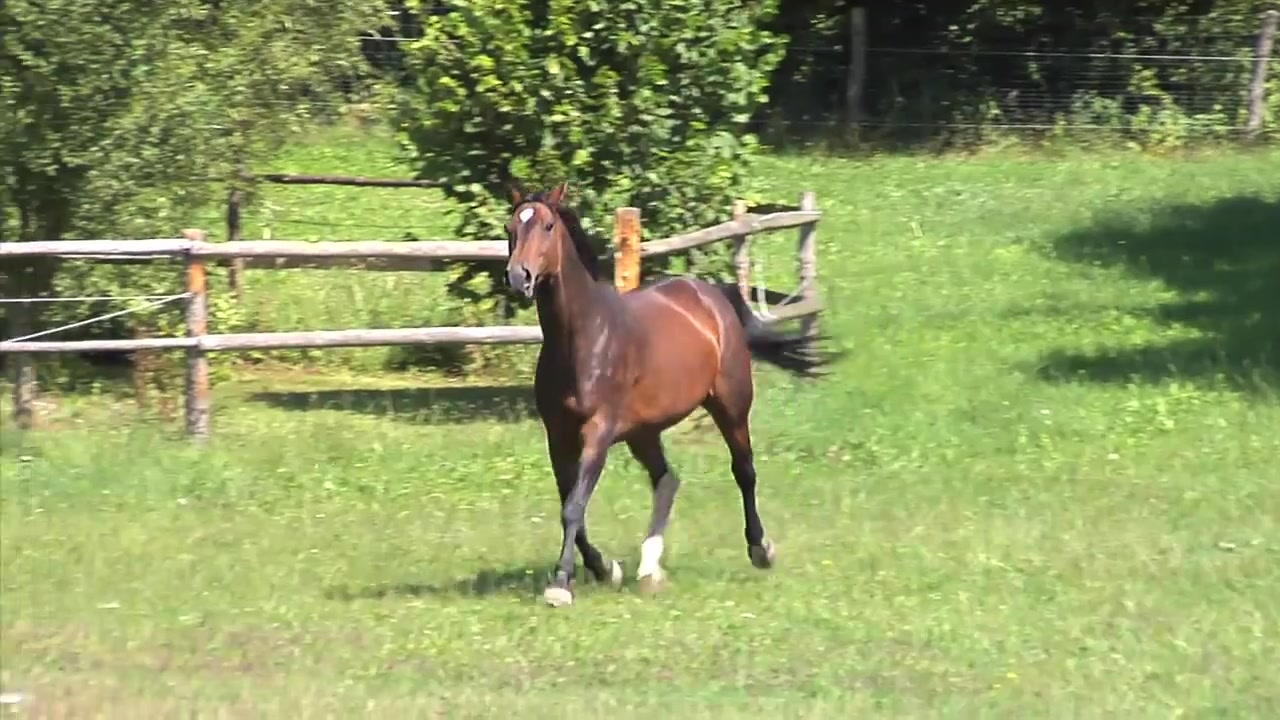horse: (501, 186, 839, 613)
